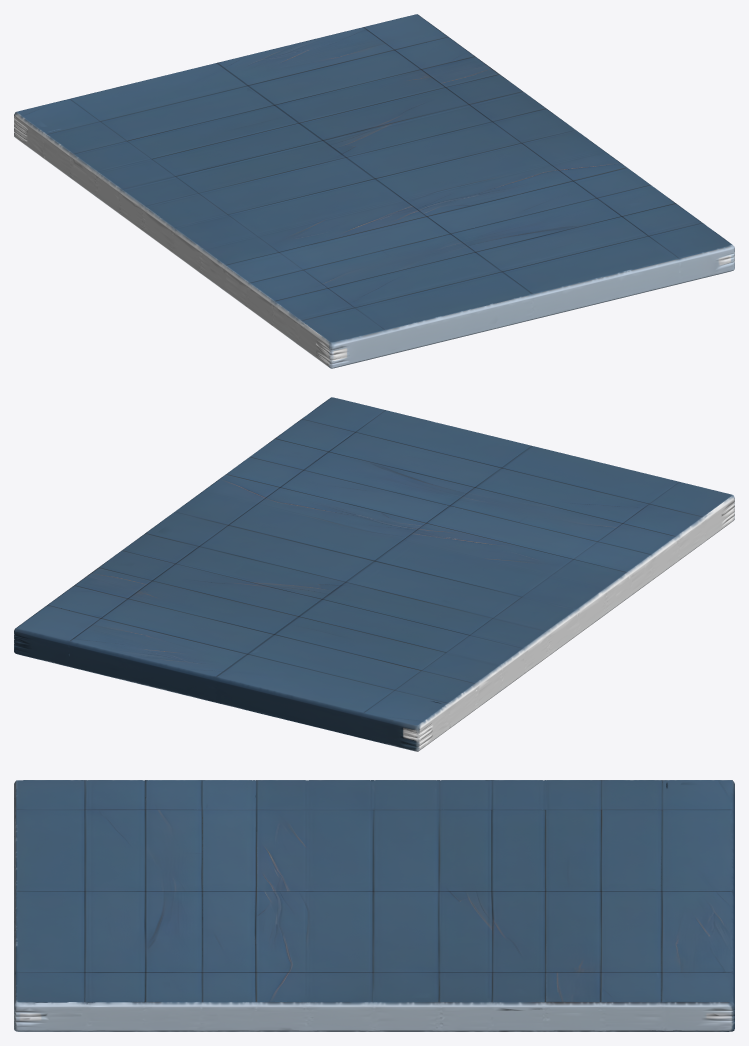
The model's file is OfficeFloor.fbx.
The picture shows the model from 3 angles, top to bottom: view 1: azimuth 30°, elevation 25°; view 2: azimuth 150°, elevation 25°; view 3: azimuth 270°, elevation 25°; orthographic projection. The views are drawn at different scales.
Parts seen in each view (by area): view 1: Mesh_0; view 2: Mesh_0; view 3: Mesh_0.
Part boxes in pixels (x1=…): Mesh_0: x1=14, y1=14, x2=734, y2=368; Mesh_0: x1=14, y1=397, x2=734, y2=751; Mesh_0: x1=14, y1=780, x2=734, y2=1031.
Size of the model in its own units: 71.41 by 4.41 by 96.91.
1 material, 1 textured.
